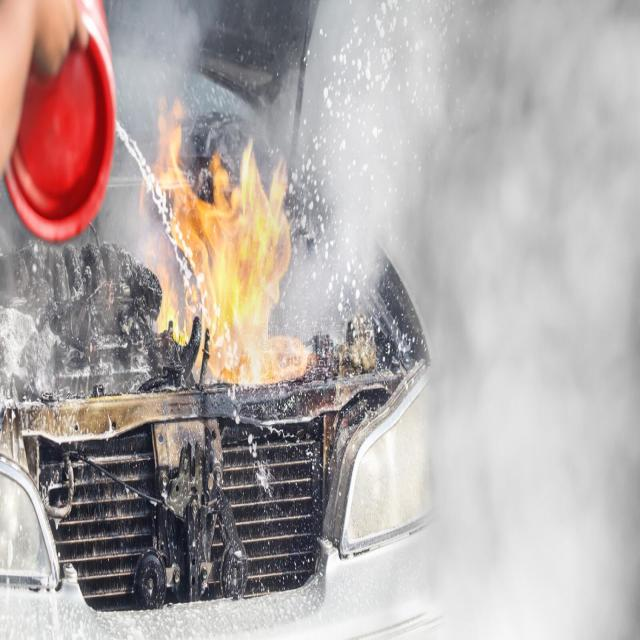fire_extinguisher: (0, 0, 120, 255)
